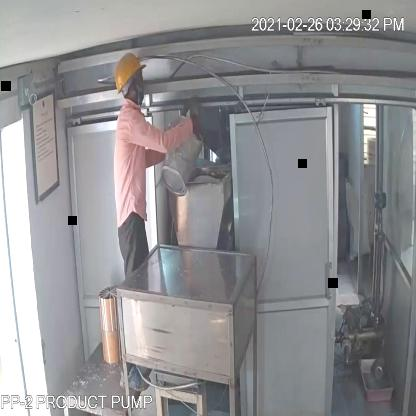helmet: (110, 53, 148, 94)
